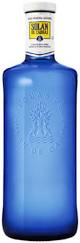solan de cabras: (1, 1, 78, 242)
